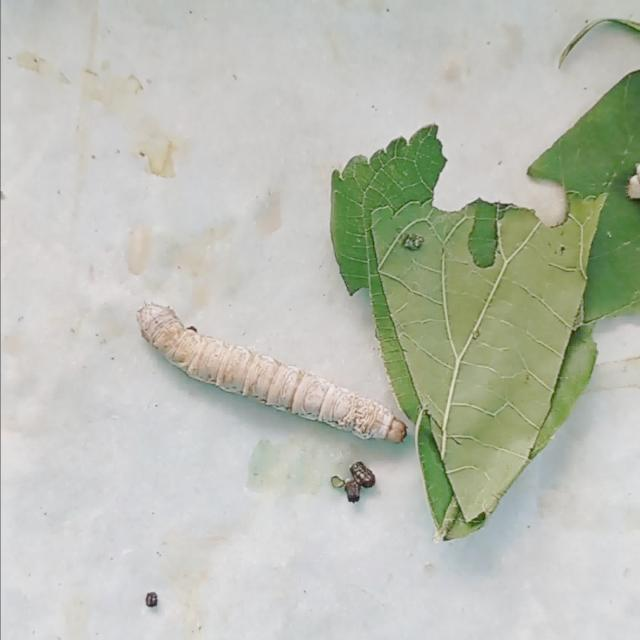Grasserie: (132, 293, 418, 452)
